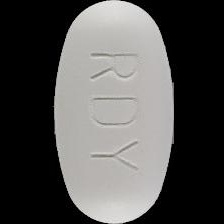0615-7772: (0, 0, 224, 224)
